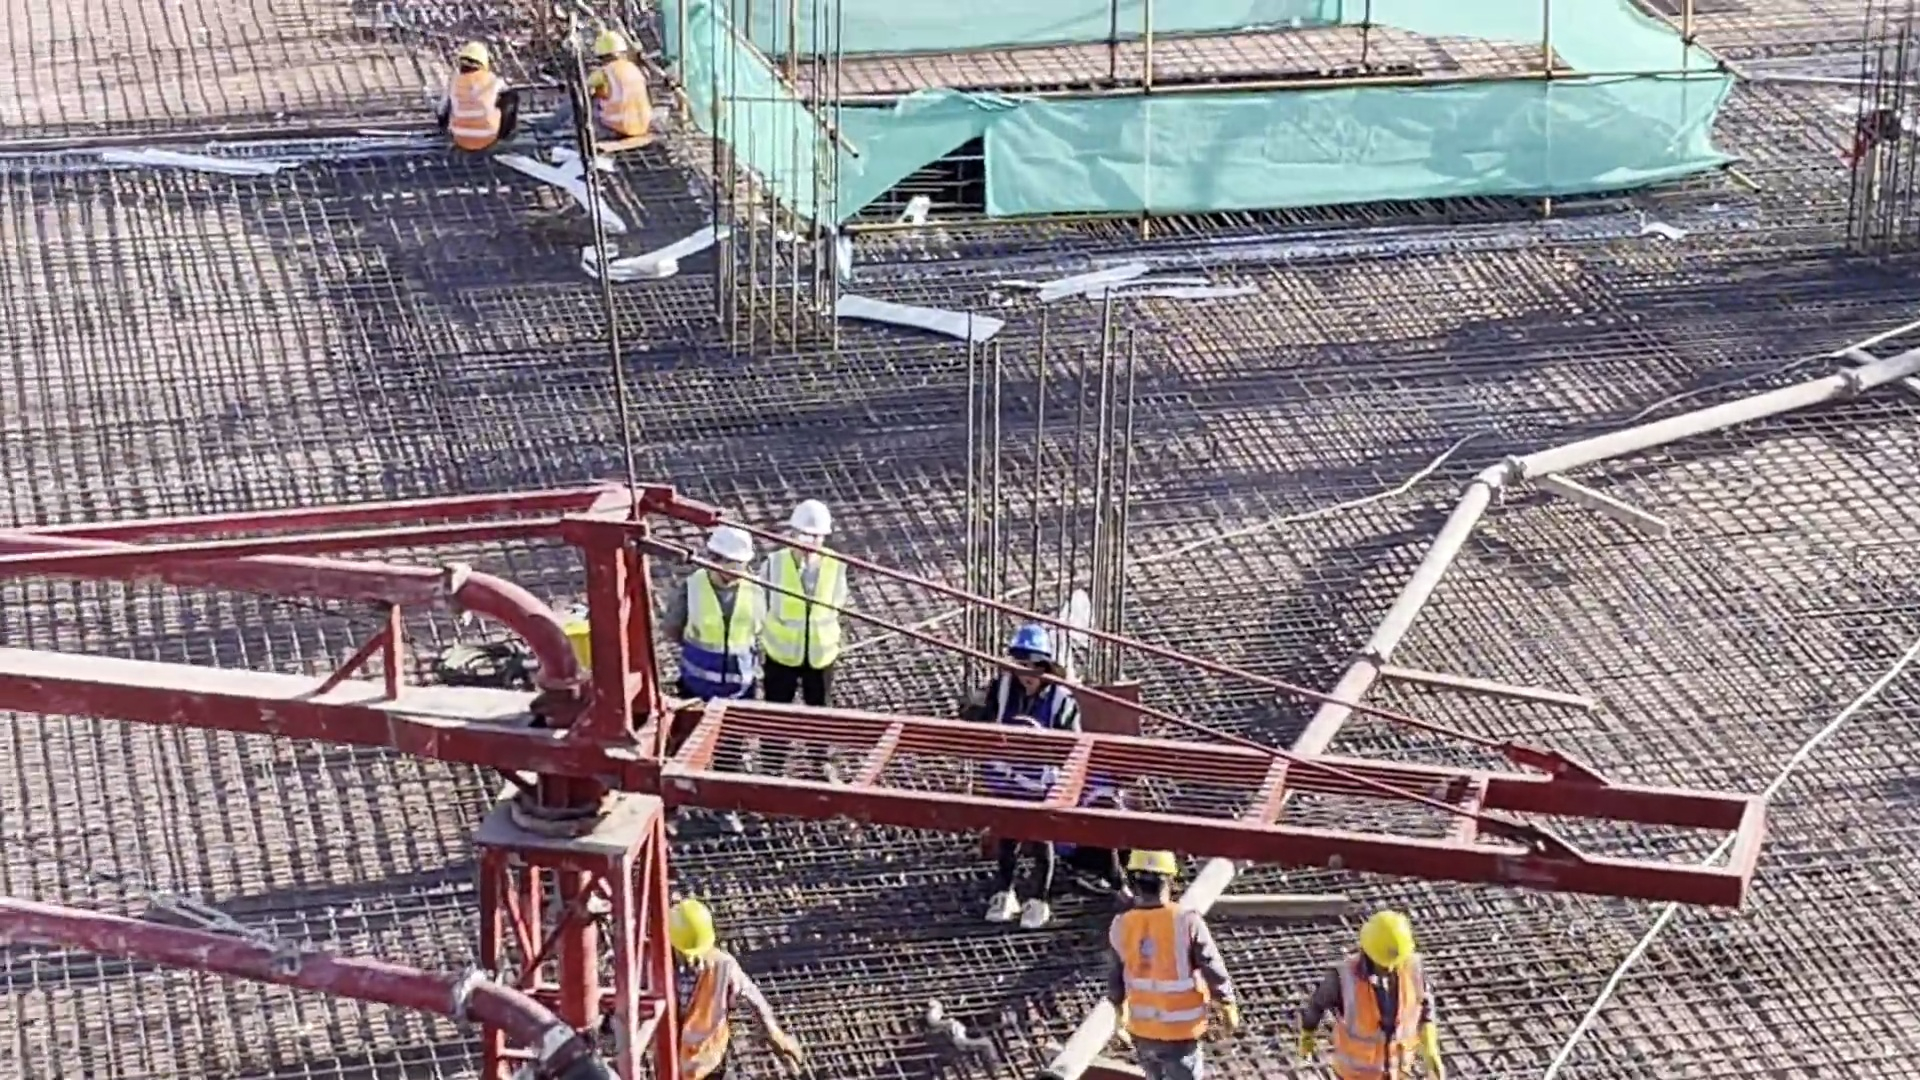helmet: (1355, 907, 1408, 964), (1120, 841, 1180, 883), (667, 896, 715, 942), (700, 526, 747, 573), (797, 500, 839, 538), (1013, 629, 1044, 658), (593, 37, 636, 58), (458, 44, 482, 65)
person: (1097, 835, 1242, 1080), (637, 887, 821, 1080), (974, 630, 1086, 934), (659, 509, 760, 843), (1299, 898, 1443, 1080), (769, 504, 847, 798), (428, 38, 525, 163), (573, 27, 657, 142), (1058, 771, 1136, 892)
vest: (1109, 906, 1201, 1065), (994, 677, 1084, 838), (1324, 965, 1443, 1072), (662, 957, 736, 1077), (767, 556, 839, 676), (682, 575, 755, 684), (444, 71, 512, 149), (598, 71, 661, 153), (1060, 783, 1130, 848)
